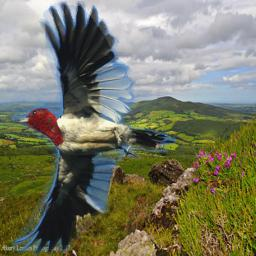Woodpecker: (12, 1, 176, 256)
